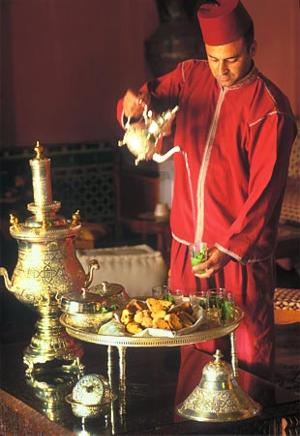person: (117, 5, 297, 379)
